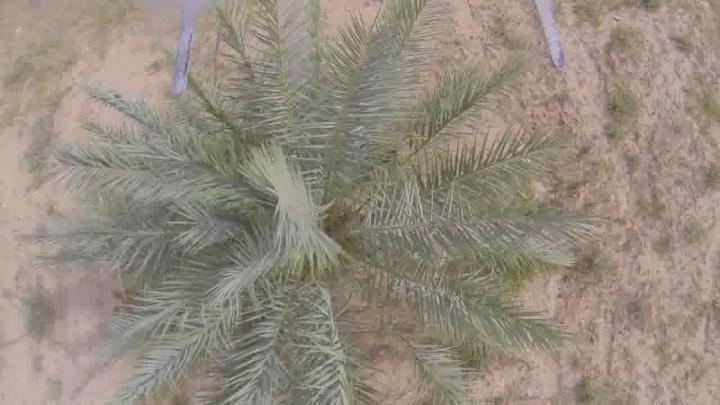Date-Palm-Crown: (172, 95, 446, 352)
